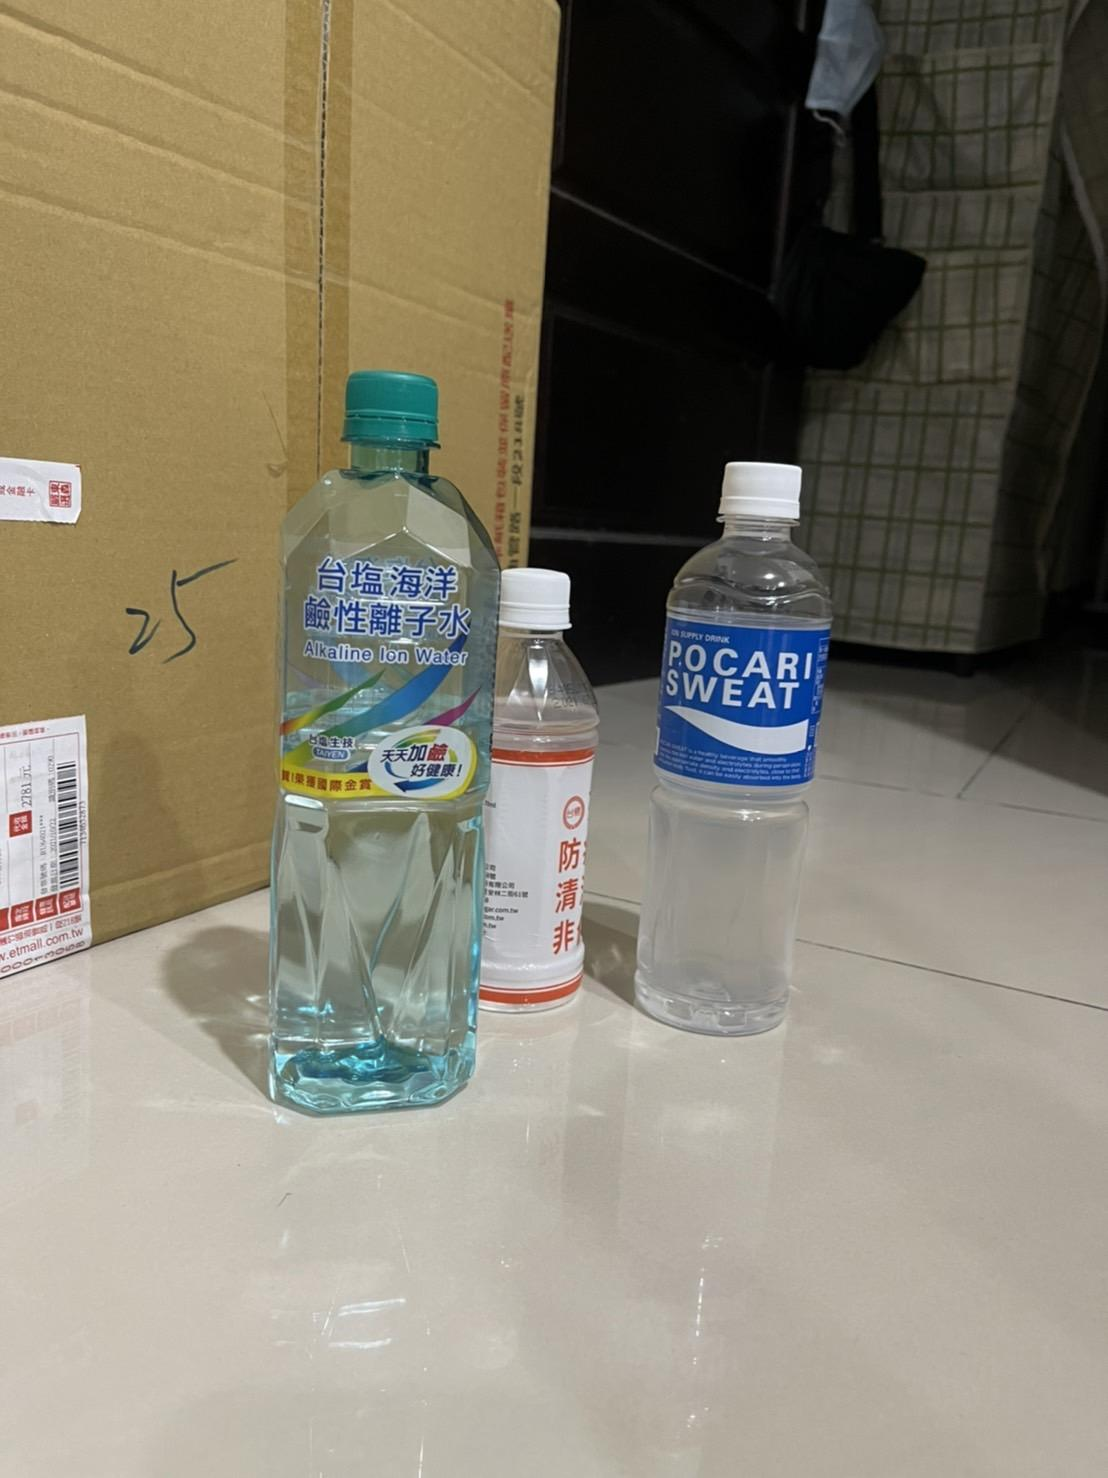bottle: (615, 0, 848, 318), (428, 0, 615, 297), (242, 0, 516, 27)
